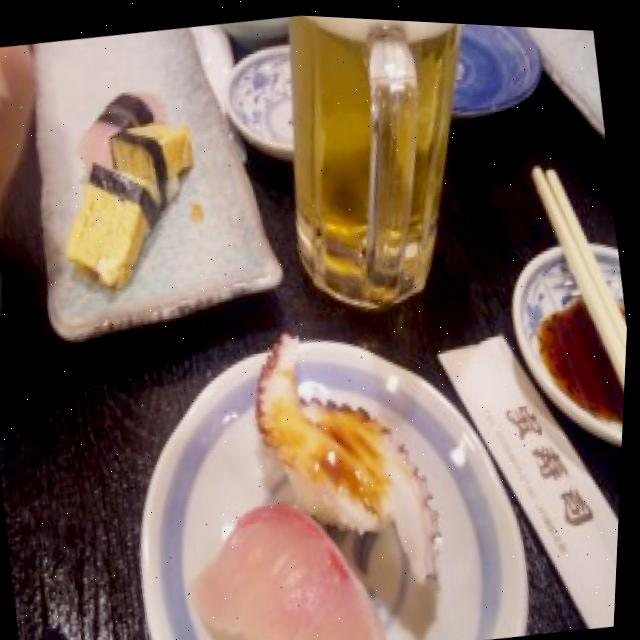寿司卷物: (128, 308, 538, 640)
